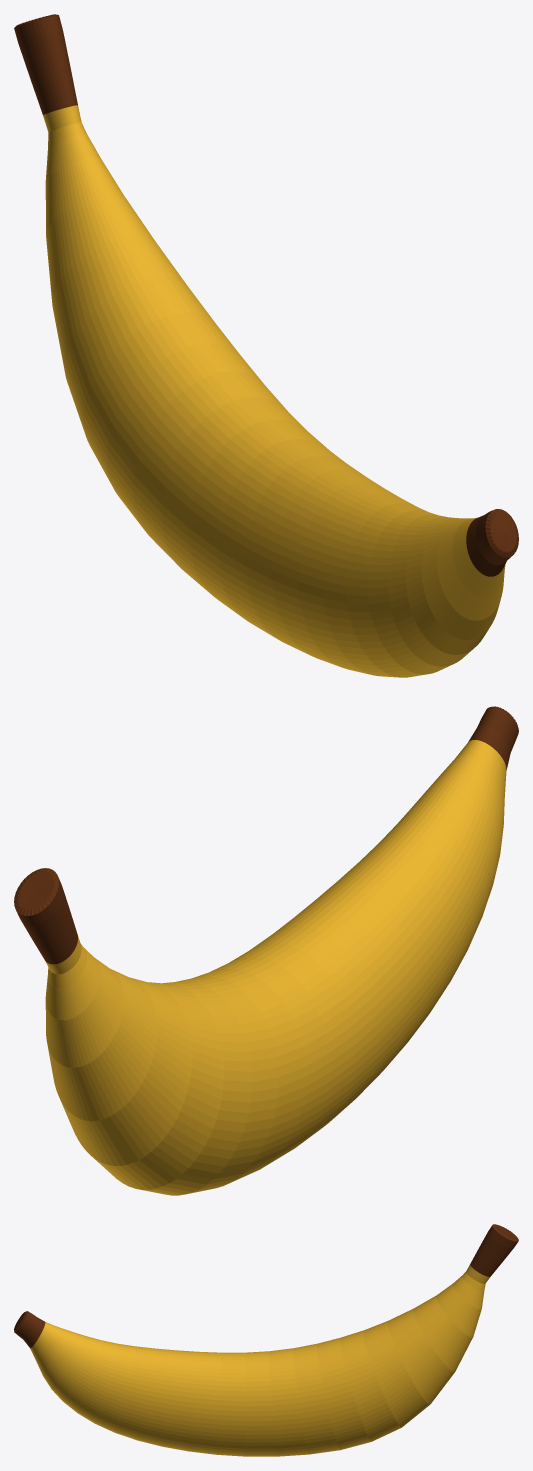
File: banane.fbx
3 renders of one model, top to bottom at view 1: azimuth 30°, elevation 25°; view 2: azimuth 150°, elevation 25°; view 3: azimuth 270°, elevation 25°, orthographic. The views are drawn at different scales.
Parts seen in each view (by area): view 1: banane; view 2: banane; view 3: banane.
Boxes of the visible parts, <box> form: banane: <box>14,14,518,677</box>; banane: <box>14,706,518,1195</box>; banane: <box>14,1224,518,1456</box>.
Bounding box in the file's own units: 33.95 × 99.45 × 199.
